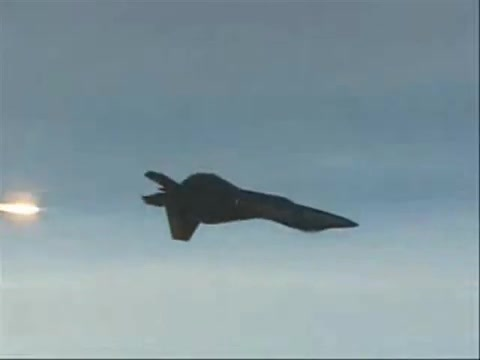aeroplane: (142, 170, 360, 243)
